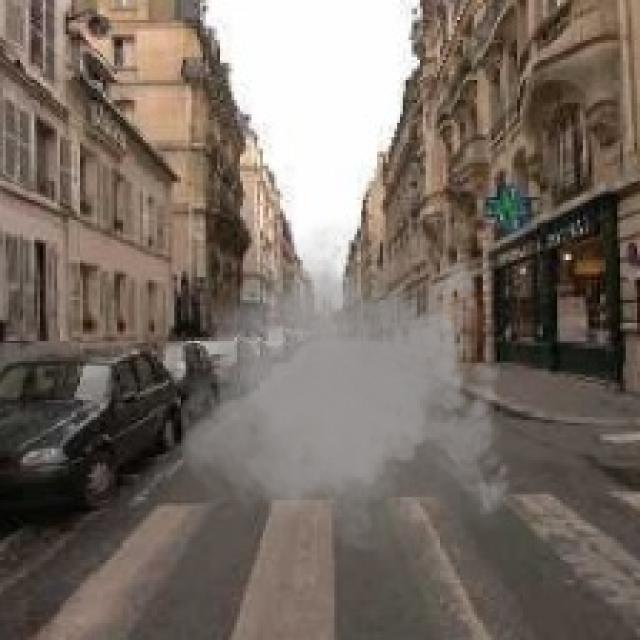Smoke: (175, 206, 520, 568)
